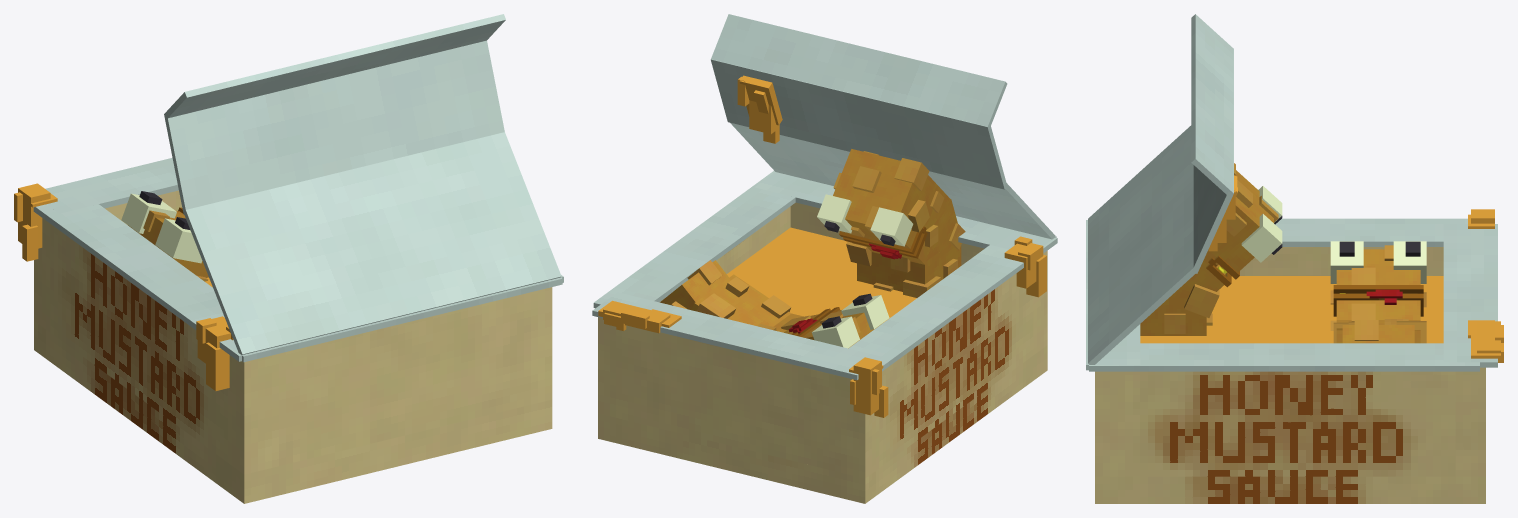
Rendered from honey.glb.
The picture shows the model from 3 angles, left to right: view 1: azimuth 30°, elevation 25°; view 2: azimuth 150°, elevation 25°; view 3: azimuth 270°, elevation 25°; orthographic projection. The views are drawn at different scales.
Parts seen in each view (by area): view 1: Korobka_131, Korobka_125, Korobka_132, Korobka_123, Korobka_122, Korobka_128, Korobka_133, Korobka_127, Korobka_130, Korobka_126, eyes_15, Sogrizok_136 (+4 smaller); view 2: Korobka_126, Korobka_132, Korobka_133, Korobka_123, Korobka_122, Sauce_135, Korobka_131, Korobka_129, Korobka_128, Korobka_127, Osnovarta_58, Korobka_130 (+19 smaller); view 3: Korobka_124, Korobka_131, Korobka_122, Sauce_135, Korobka_129, Korobka_127, Korobka_133, Korobka_128, Korobka_126, Korobka_125, Korobka_123, Korobka_132 (+15 smaller).
Part boxes in pixels (x1,y1,x2,y2): Korobka_131: [183, 132, 561, 354]; Korobka_125: [228, 287, 552, 474]; Korobka_132: [164, 40, 504, 214]; Korobka_123: [50, 224, 227, 462]; Korobka_122: [34, 321, 552, 503]; Korobka_128: [33, 204, 241, 361]; Korobka_133: [164, 14, 505, 119]; Korobka_127: [45, 157, 178, 213]; Korobka_130: [223, 277, 562, 362]; Korobka_126: [34, 190, 182, 332]; eyes_15: [155, 218, 202, 263]; Sogrizok_136: [18, 183, 50, 248]; Korobka_126: [598, 317, 879, 478]; Korobka_132: [710, 59, 1005, 189]; Korobka_133: [711, 14, 1007, 128]; Korobka_123: [879, 273, 1033, 467]; Korobka_122: [598, 345, 1047, 503]; Sauce_135: [726, 227, 916, 321]; Korobka_131: [730, 122, 1055, 239]; Korobka_129: [593, 171, 795, 308]; Korobka_128: [848, 237, 1057, 371]; Korobka_127: [592, 292, 881, 380]; Osnovarta_58: [833, 149, 936, 248]; Korobka_130: [755, 172, 1056, 249]; Korobka_124: [1125, 371, 1455, 476]; Korobka_131: [1088, 125, 1195, 364]; Korobka_122: [1095, 476, 1485, 503]; Sauce_135: [1140, 276, 1443, 343]; Korobka_129: [1089, 343, 1479, 371]; Korobka_127: [1443, 224, 1497, 367]; Korobka_133: [1191, 14, 1233, 194]; Korobka_128: [1275, 218, 1467, 246]; Korobka_126: [1455, 367, 1485, 476]; Korobka_125: [1095, 371, 1124, 476]; Korobka_123: [1240, 247, 1443, 275]; Korobka_132: [1192, 49, 1233, 273].
Size of the model in its own units: 0.7437 by 0.7977 by 0.8688.
9 materials, 9 textured.
